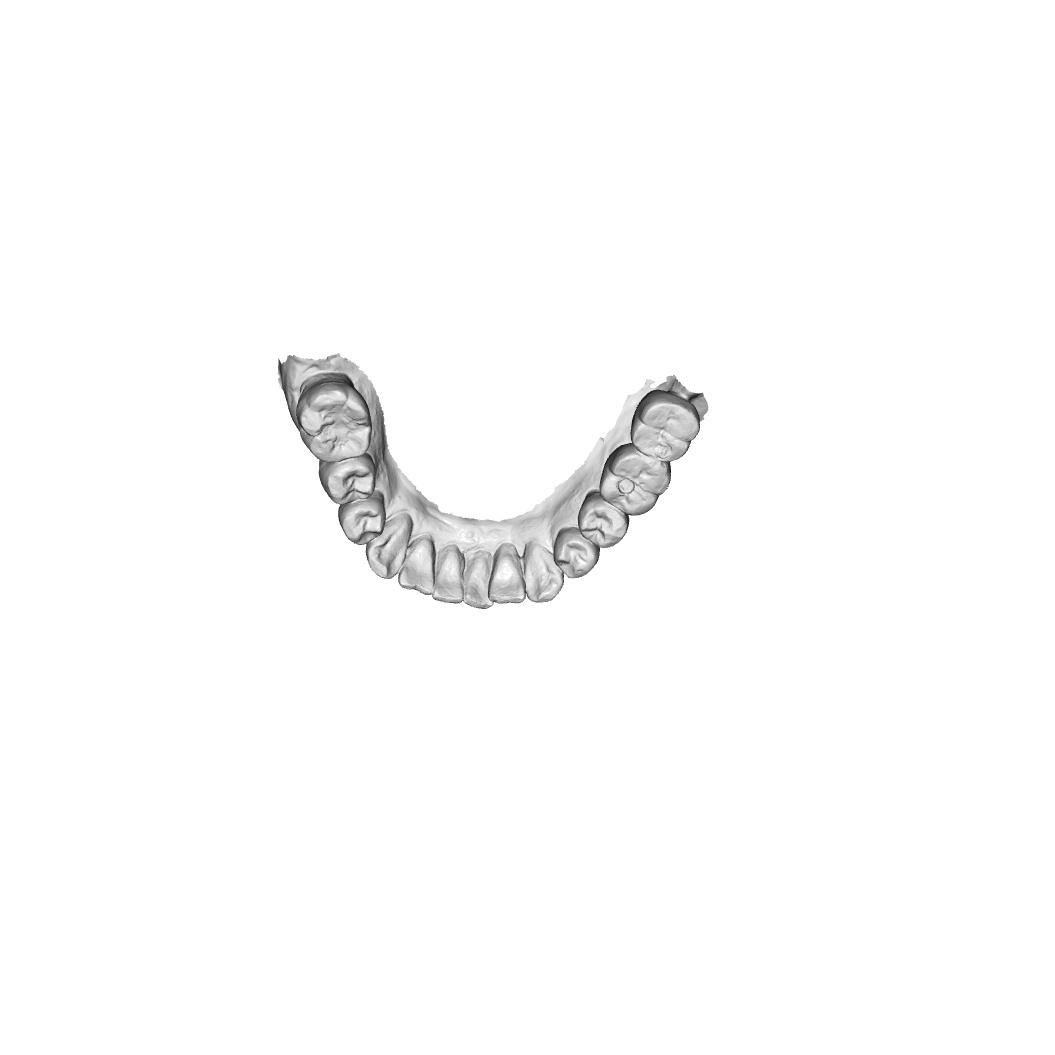canine: (365, 513, 414, 580), (523, 541, 565, 603)
incisor: (487, 542, 526, 605), (397, 534, 436, 597), (432, 543, 464, 604), (462, 549, 493, 610)
molar: (295, 372, 373, 463), (599, 443, 672, 516), (629, 389, 701, 463)
premolar: (318, 451, 377, 506), (577, 492, 629, 549), (337, 491, 386, 546), (553, 527, 600, 580)
